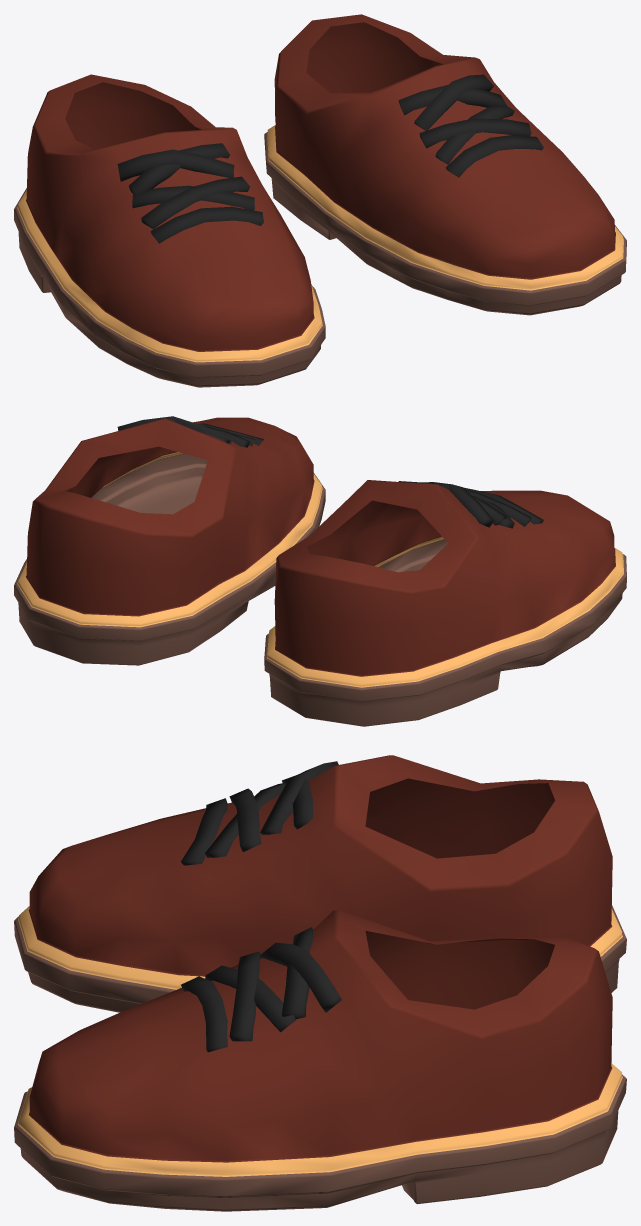
Rendered from Shoe_Sneaker_006.glb.
3 renders of one model, top to bottom at view 1: azimuth 30°, elevation 25°; view 2: azimuth 150°, elevation 25°; view 3: azimuth 270°, elevation 25°, orthographic. The views are drawn at different scales.
Visible parts, largest first — view 1: Shoe_Sneaker_006; view 2: Shoe_Sneaker_006; view 3: Shoe_Sneaker_006.
Boxes of the visible parts, box(x1,y1,x2,y2) form: Shoe_Sneaker_006: box(14, 14, 626, 387); Shoe_Sneaker_006: box(14, 416, 626, 726); Shoe_Sneaker_006: box(14, 755, 626, 1211).
Bounding box in the file's own units: 0.4328 × 0.1332 × 0.3551.
1 material, 1 textured.
